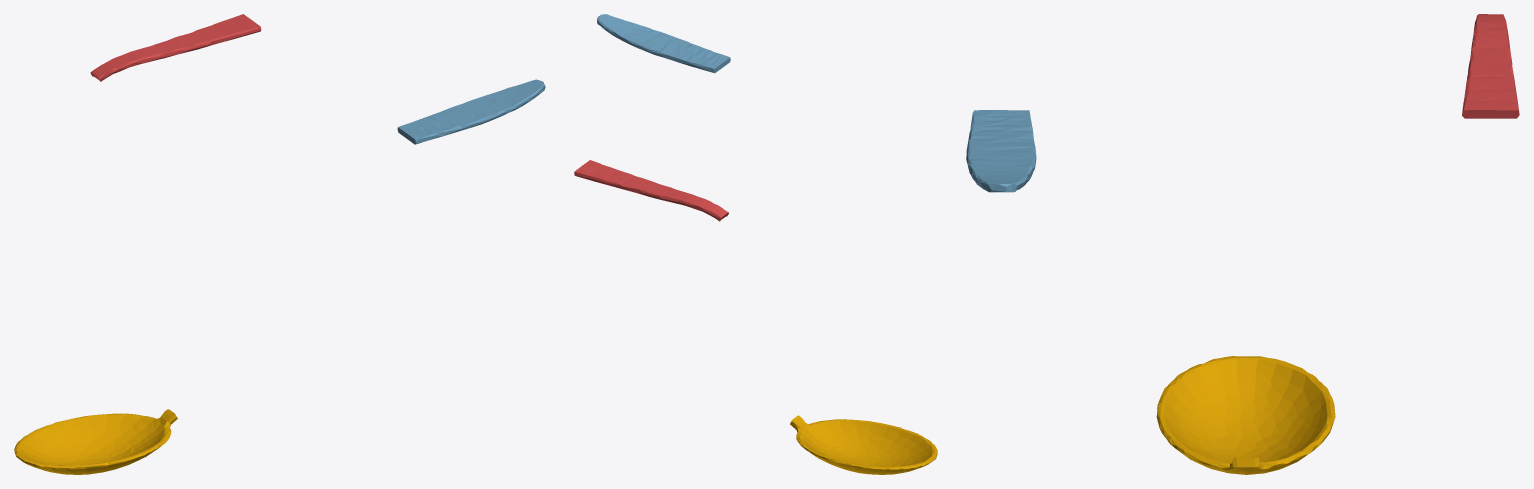
The model's file is mode_2_3pcs_transformed.glb.
3 renders of one model, left to right at view 1: azimuth 30°, elevation 25°; view 2: azimuth 150°, elevation 25°; view 3: azimuth 270°, elevation 25°, orthographic. The views are drawn at different scales.
Visible parts, largest first — view 1: piece_0.obj, piece_2.obj, piece_1.obj; view 2: piece_0.obj, piece_2.obj, piece_1.obj; view 3: piece_0.obj, piece_2.obj, piece_1.obj.
Boxes of the visible parts, x1,y1,x2,y2 form: piece_0.obj: (14,409,177,474); piece_2.obj: (397,79,545,144); piece_1.obj: (90,14,261,81); piece_0.obj: (790,415,937,474); piece_2.obj: (597,14,730,73); piece_1.obj: (574,160,728,221); piece_0.obj: (1156,356,1335,474); piece_2.obj: (966,110,1036,192); piece_1.obj: (1462,14,1519,118).
Size of the model in its own units: 1 by 0.752 by 0.6784.
